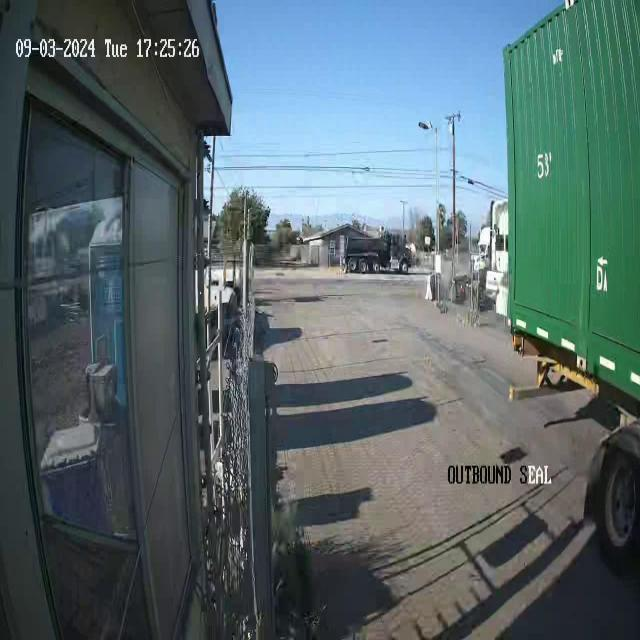TRUCK_IN: (502, 1, 639, 417)
